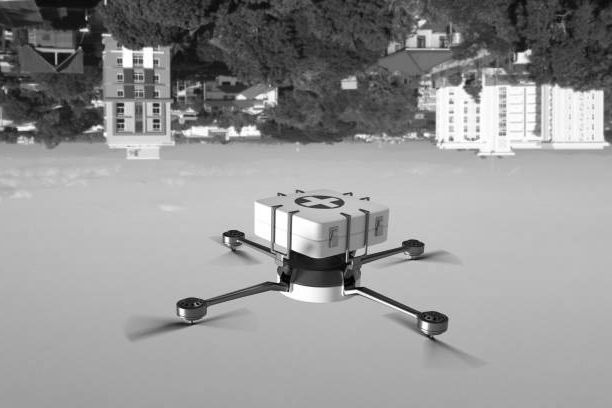Drone: (117, 227, 472, 352)
